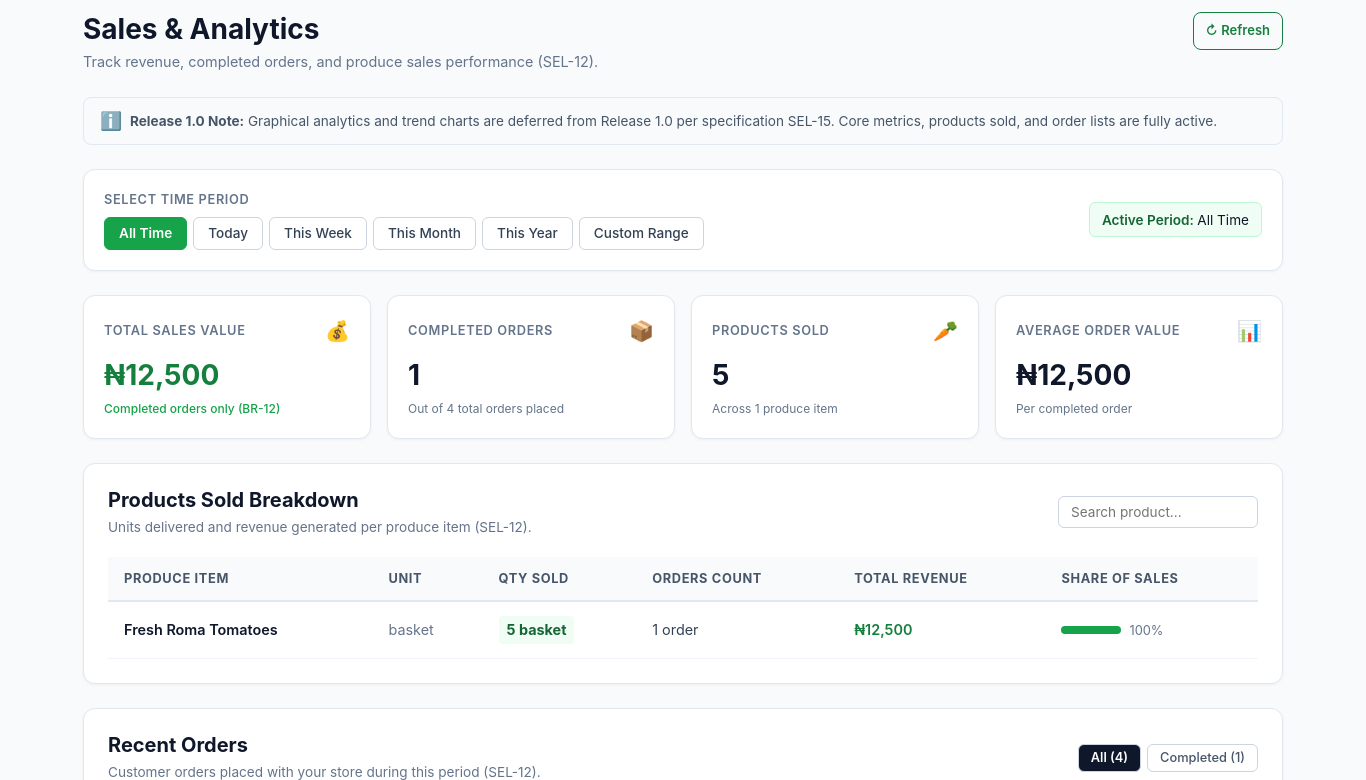
Test case: FE-093 / SEL-12: Seller Sales Page › 5. Period Selection & Custom Date Range (SEL-12) › expands custom date range form and validates start date vs end date
Check: the heading "Sales & Analytics" is shown, box [83,12,319,46]
Click "Custom Range"
Click the button with test id "period-btn-custom" at [641, 233], box [579,217,704,250]
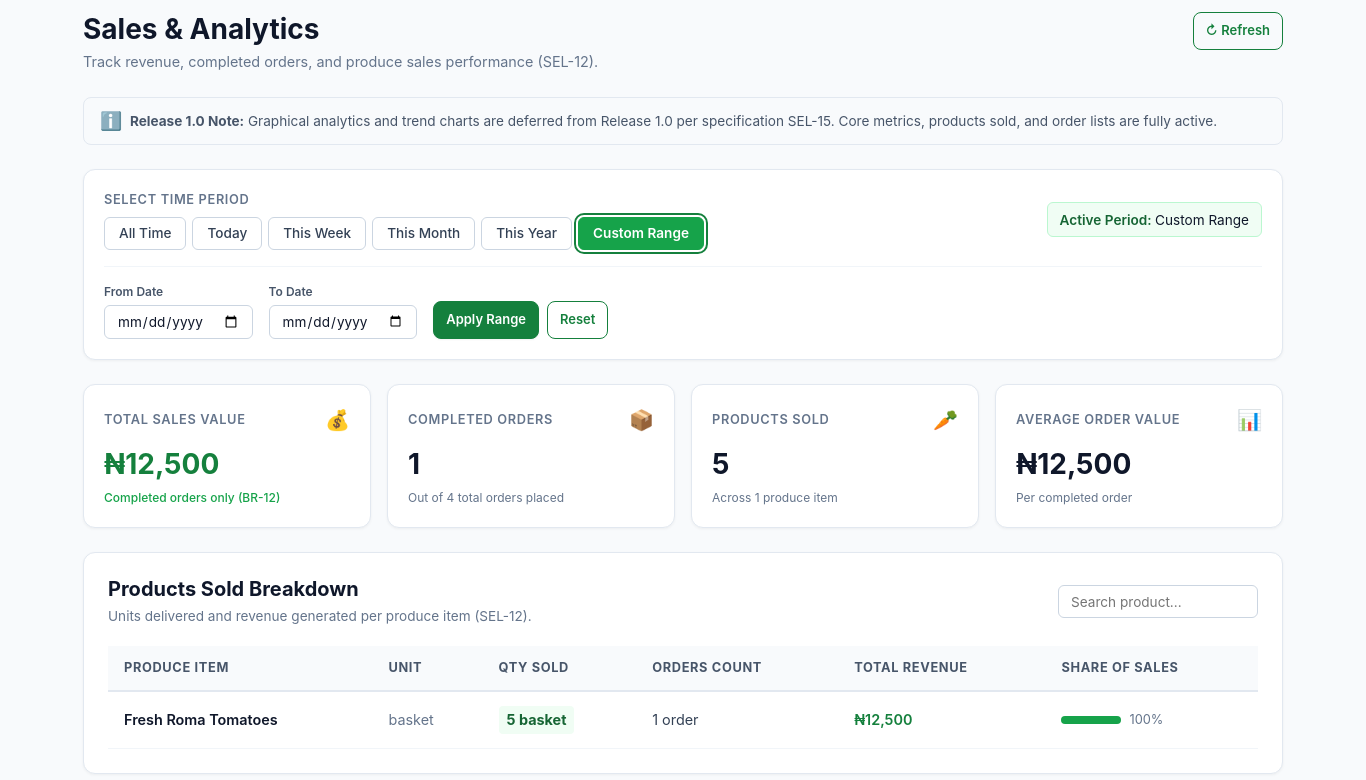
Check: the form with test id "custom-date-form" is shown, box [104,266,1262,339]
Enter invalid range: from 2026-03-01 to 2026-02-01
Type "2026-03-01" into the date field with test id "custom-date-from" at [178, 322], box [104,305,253,339]
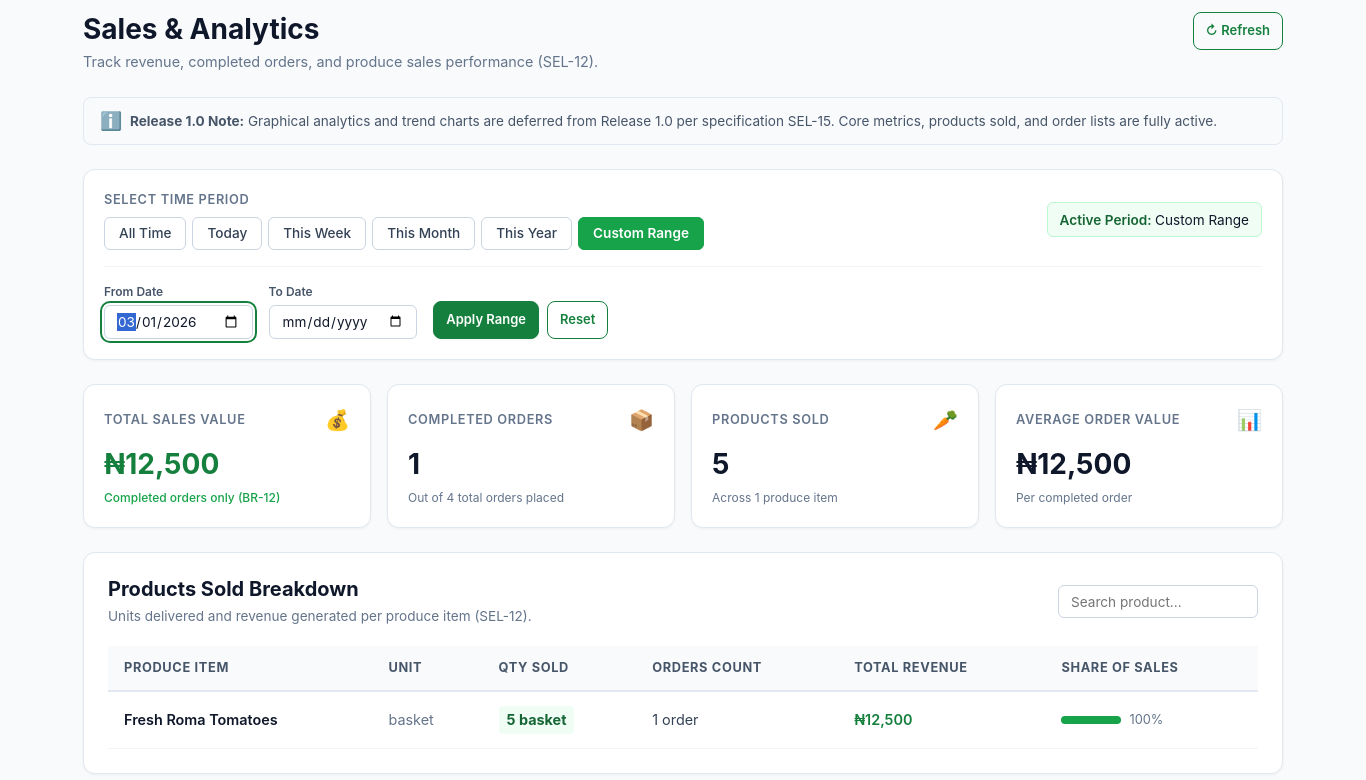
Type "2026-02-01" into the date field with test id "custom-date-to" at [343, 322], box [269,305,417,339]
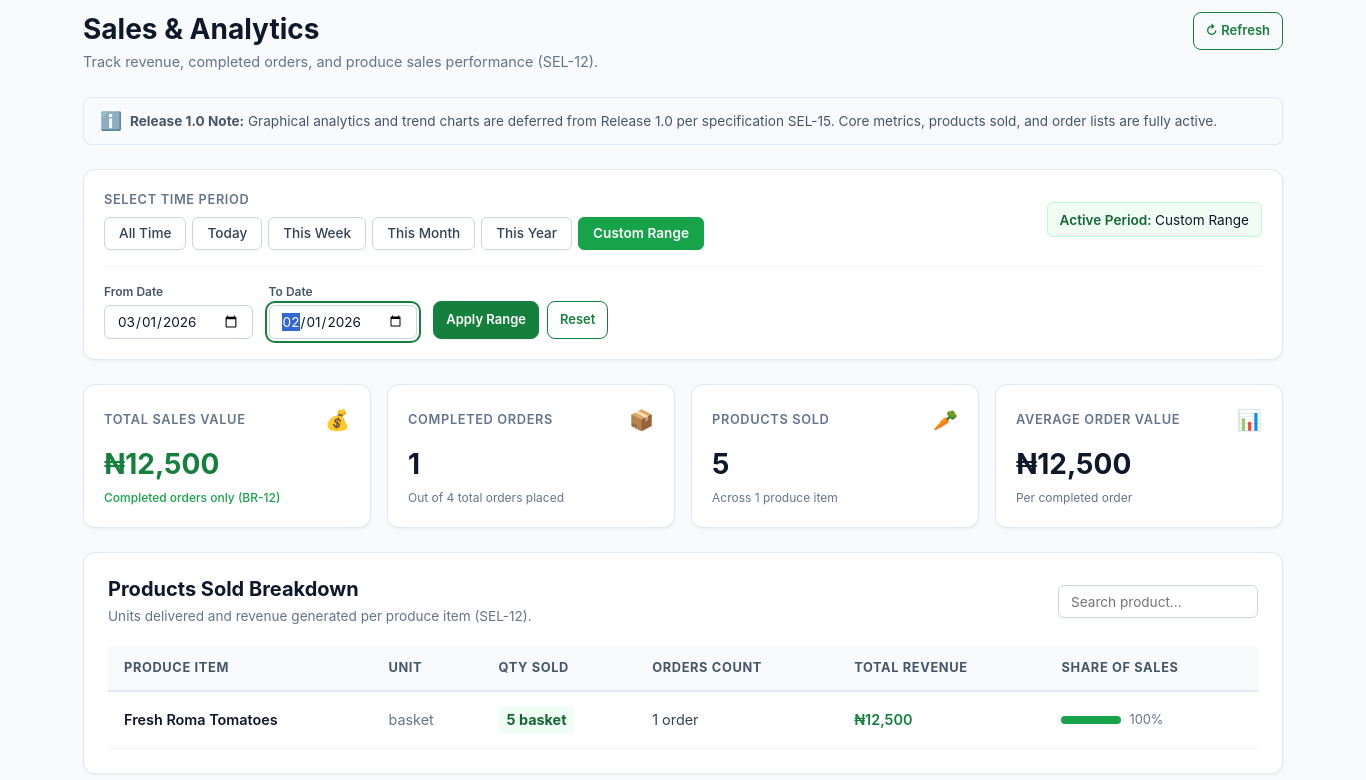
Click the button with test id "apply-custom-date" at [486, 320], box [433,301,539,339]
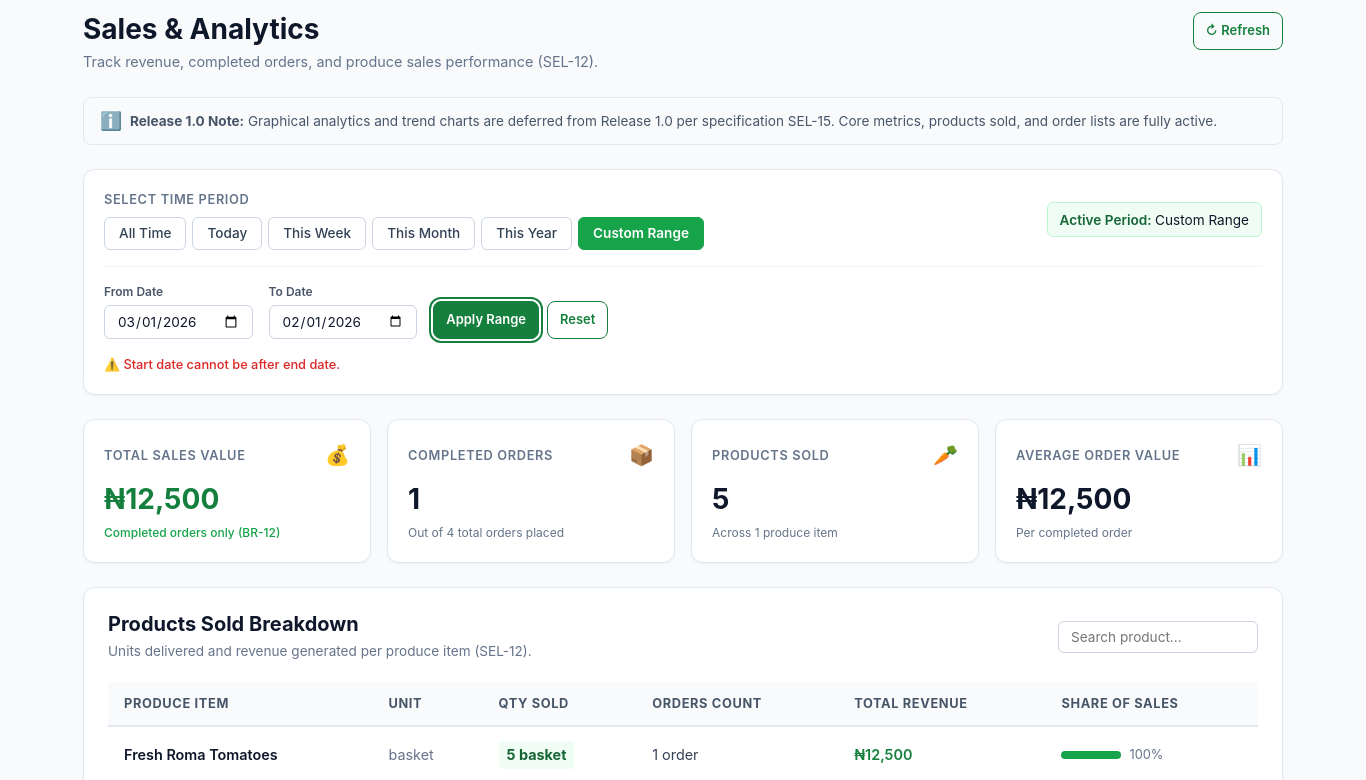
Check: the message with test id "custom-date-error" shows "Start date cannot be after end date", box [123,357,340,372]
